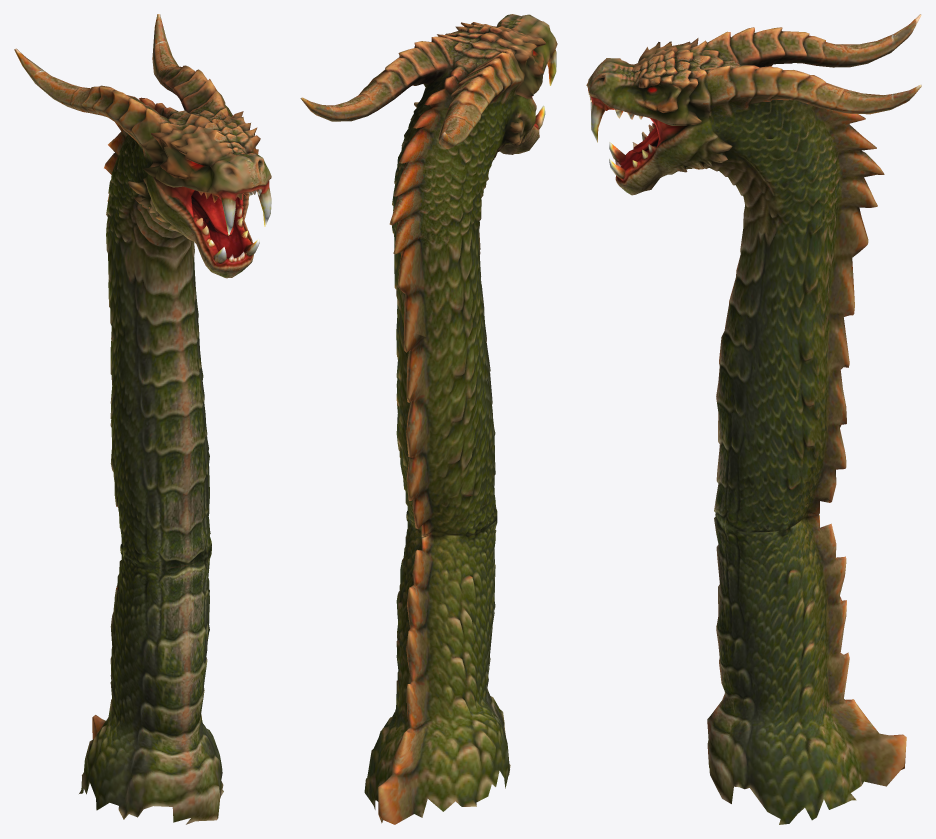
The model's file is HydraHead.glb.
3 renders of one model, left to right at view 1: azimuth 30°, elevation 25°; view 2: azimuth 150°, elevation 25°; view 3: azimuth 270°, elevation 25°, orthographic.
Parts seen in each view (by area): view 1: low; view 2: low; view 3: low.
Part boxes in pixels (bbox=[...]): low: bbox=[14, 14, 271, 824]; low: bbox=[300, 14, 557, 824]; low: bbox=[586, 14, 921, 824].
Bounding box in the file's own units: 0.9653 × 4.68 × 1.9.
1 material, 1 textured.
